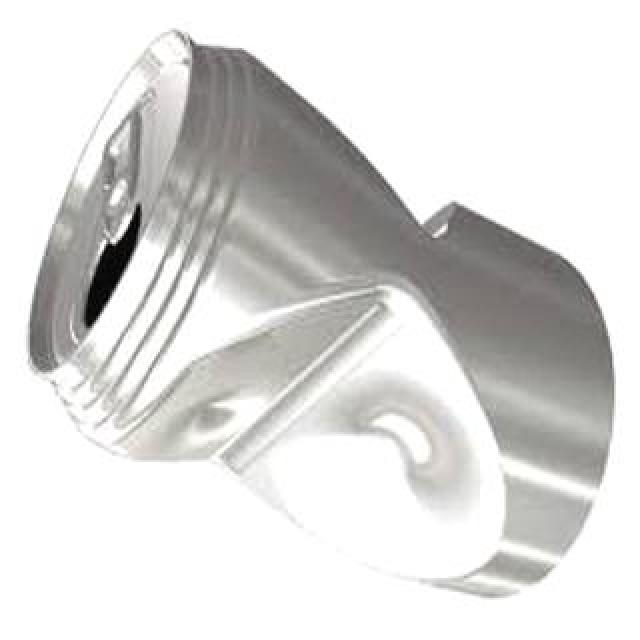Can: (5, 27, 609, 609)
